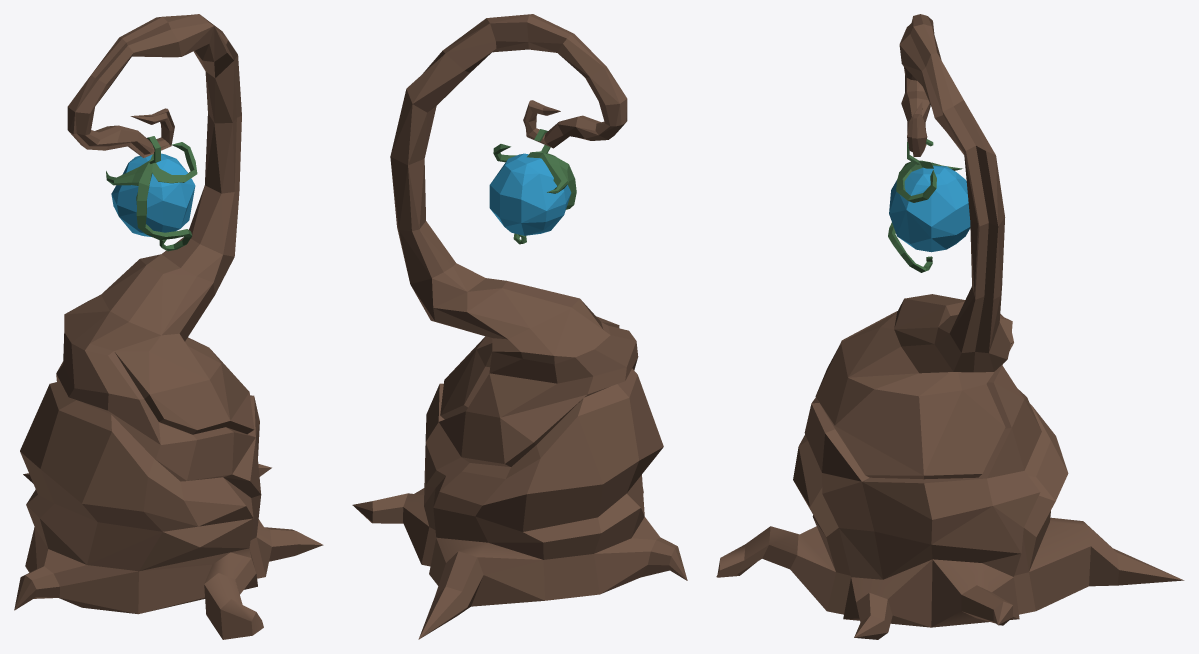
The model's file is _sculpture_7.fbx.
3 renders of one model, left to right at view 1: azimuth 30°, elevation 25°; view 2: azimuth 150°, elevation 25°; view 3: azimuth 270°, elevation 25°, orthographic. The views are drawn at different scales.
Visible parts, largest first — view 1: sculpture_7; view 2: sculpture_7; view 3: sculpture_7.
Boxes of the visible parts, x1,y1,x2,y2 form: sculpture_7: [14, 14, 323, 639]; sculpture_7: [352, 14, 687, 639]; sculpture_7: [716, 14, 1184, 639].
Size of the model in its own units: 138 by 241 by 180.
